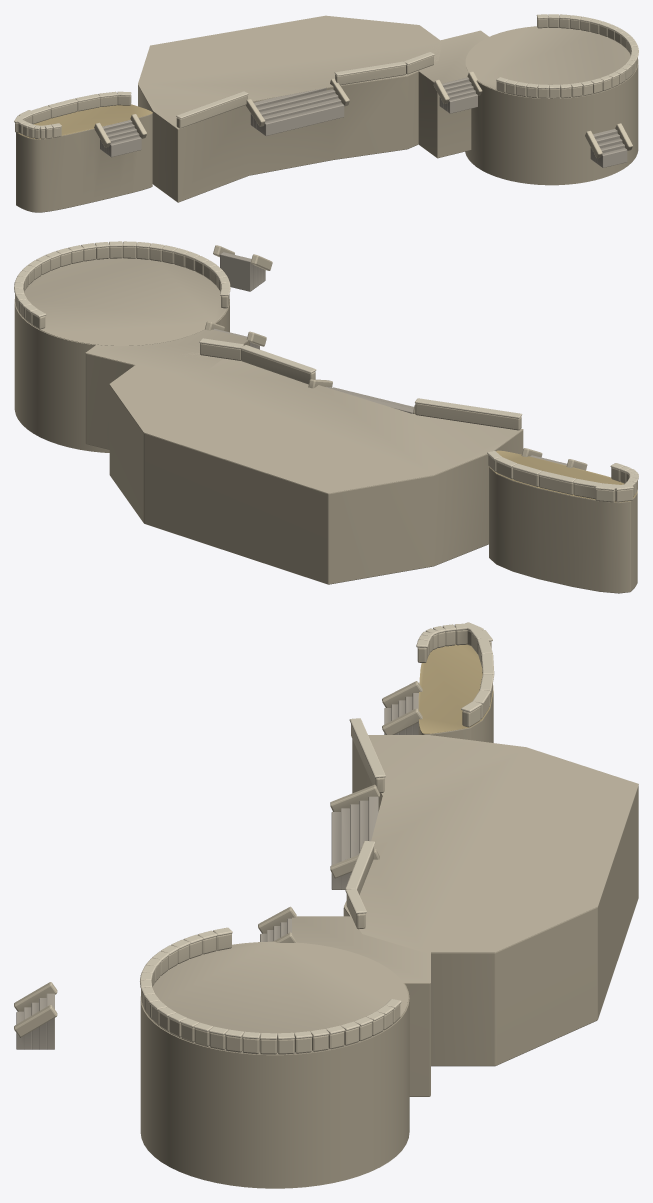
File: terrace.glb
3 views of the same model, one above another, from view 1: azimuth 30°, elevation 25°; view 2: azimuth 150°, elevation 25°; view 3: azimuth 270°, elevation 25° (orthographic). The views are drawn at different scales.
Visible parts, largest first — view 1: terrace; view 2: terrace; view 3: terrace.
Part boxes in pixels (x1,y1,x2,y2): terrace: [14, 14, 638, 212]; terrace: [14, 241, 638, 593]; terrace: [14, 622, 638, 1188].
Bounding box in the file's own units: 23.41 × 3.97 × 14.87.
